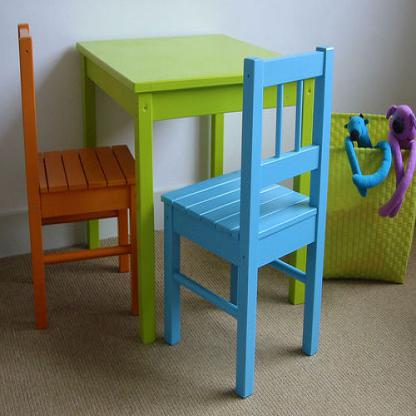chair: (159, 47, 334, 398), (17, 22, 138, 331)
